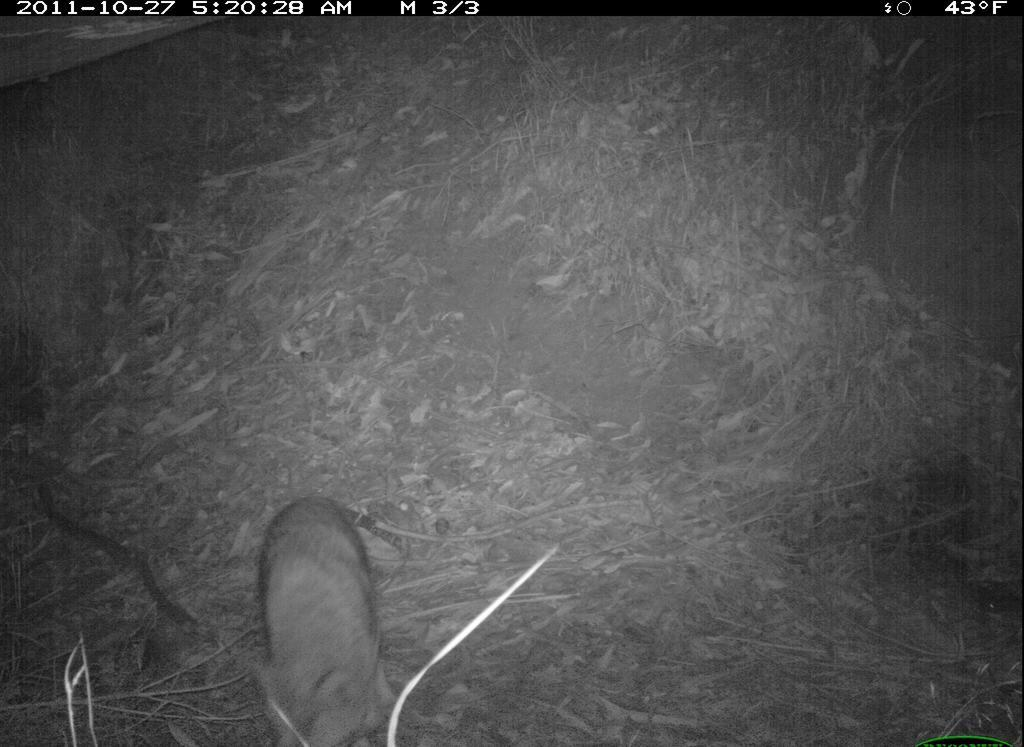coyote: (245, 493, 405, 747)
